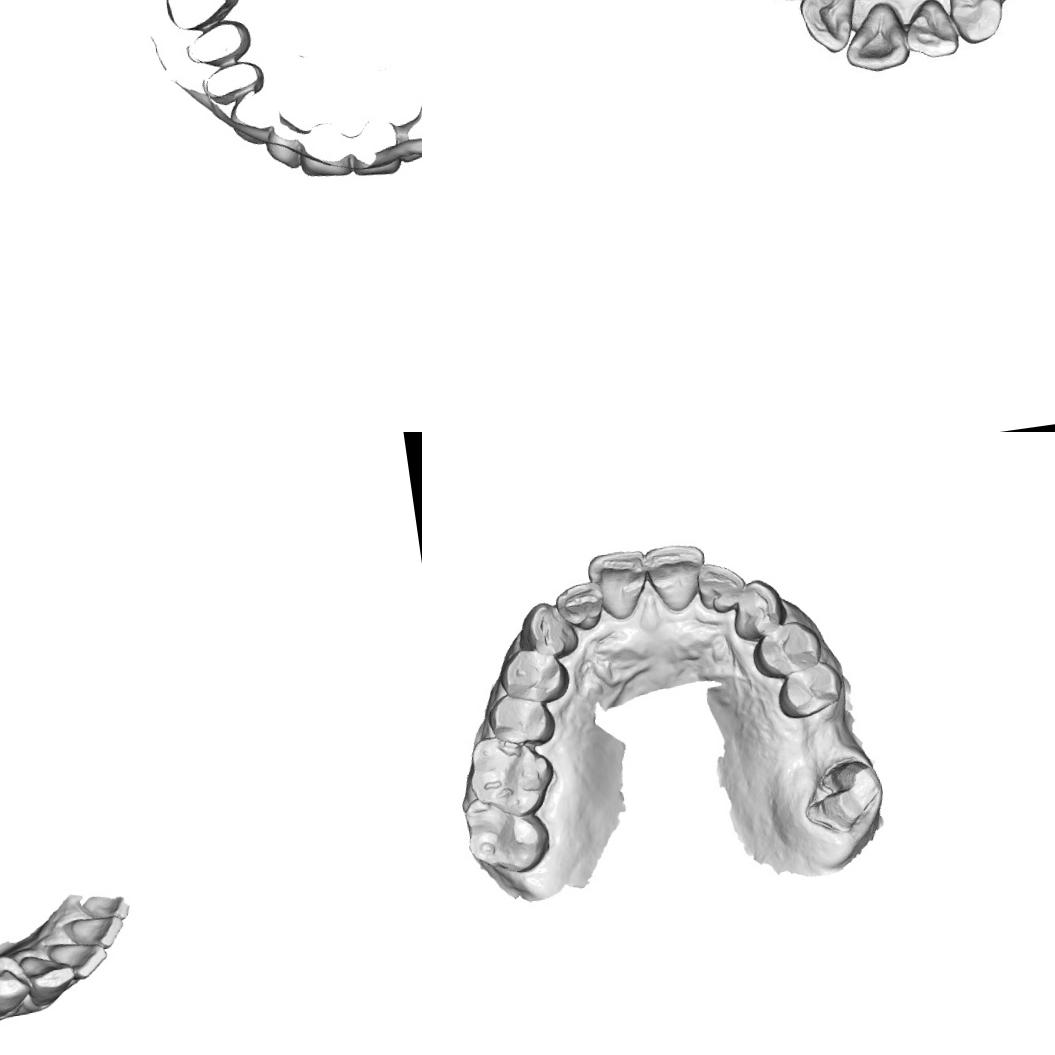canine: (514, 595, 580, 661), (726, 575, 788, 643), (17, 949, 79, 1009), (942, 0, 1009, 50)
crown: (800, 754, 888, 841)
incisor: (836, 0, 915, 76), (583, 545, 654, 624), (642, 540, 713, 616), (794, 0, 865, 60), (899, 0, 960, 62), (690, 556, 746, 618), (553, 576, 608, 635), (46, 936, 110, 984), (61, 912, 126, 955), (76, 891, 132, 925)
molar: (462, 729, 558, 825), (461, 790, 554, 882)
premolar: (748, 616, 826, 682), (496, 642, 570, 708), (483, 688, 555, 753), (772, 660, 847, 722), (0, 950, 36, 1019)
